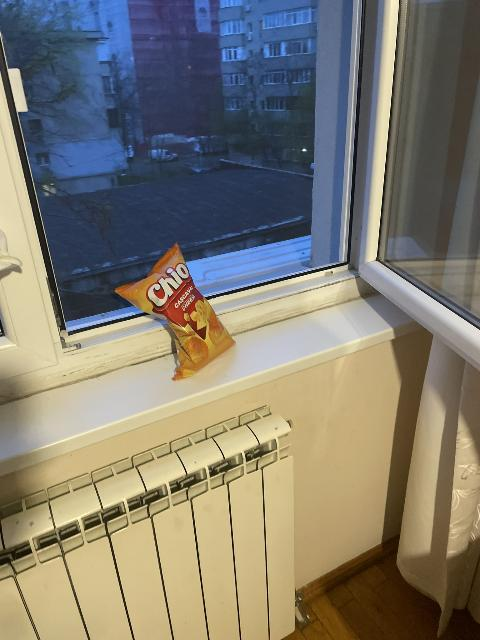Chio Cascaval 125g: (114, 242, 238, 376)
